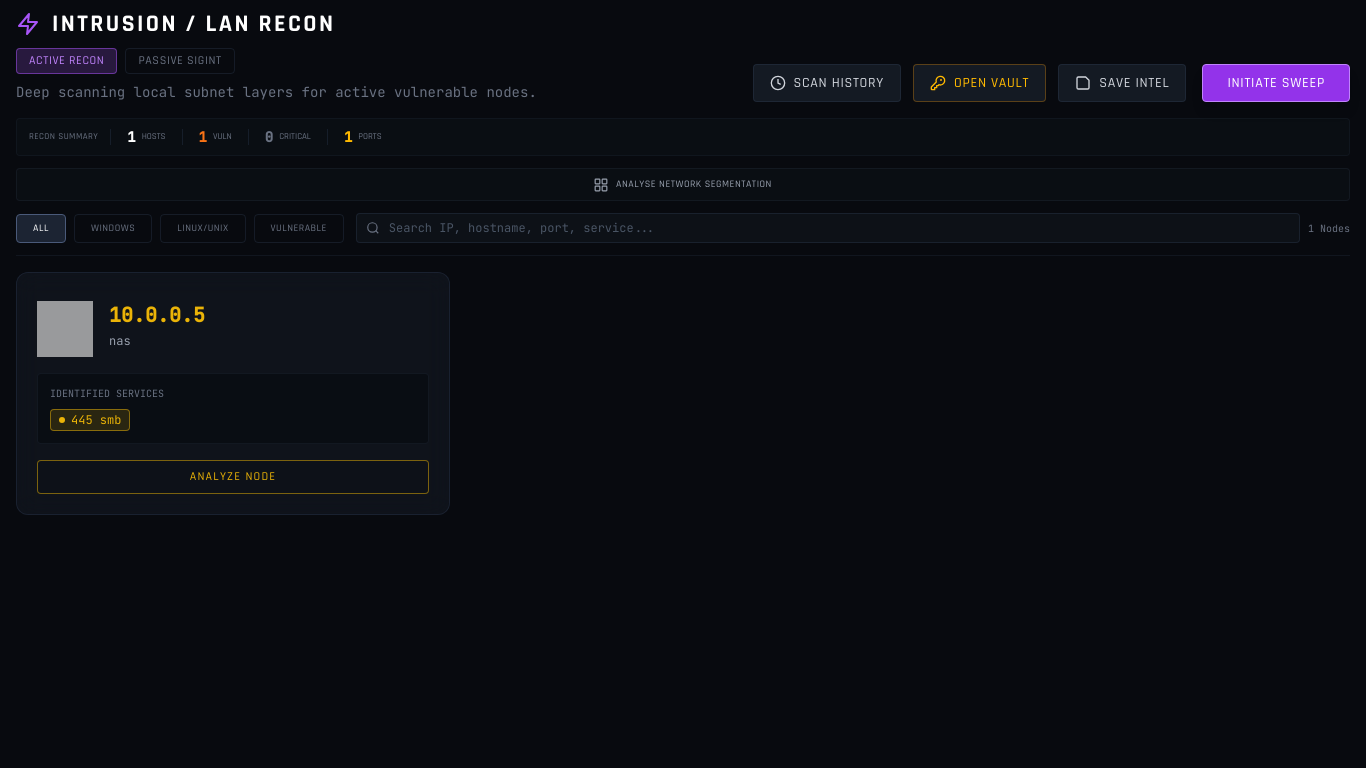
it: the table, once opened › the footnote is built from what the engine sent
Click the button "ANALYSE NETWORK SEGMENTATION" at (683, 184), box [16,168,1350,201]
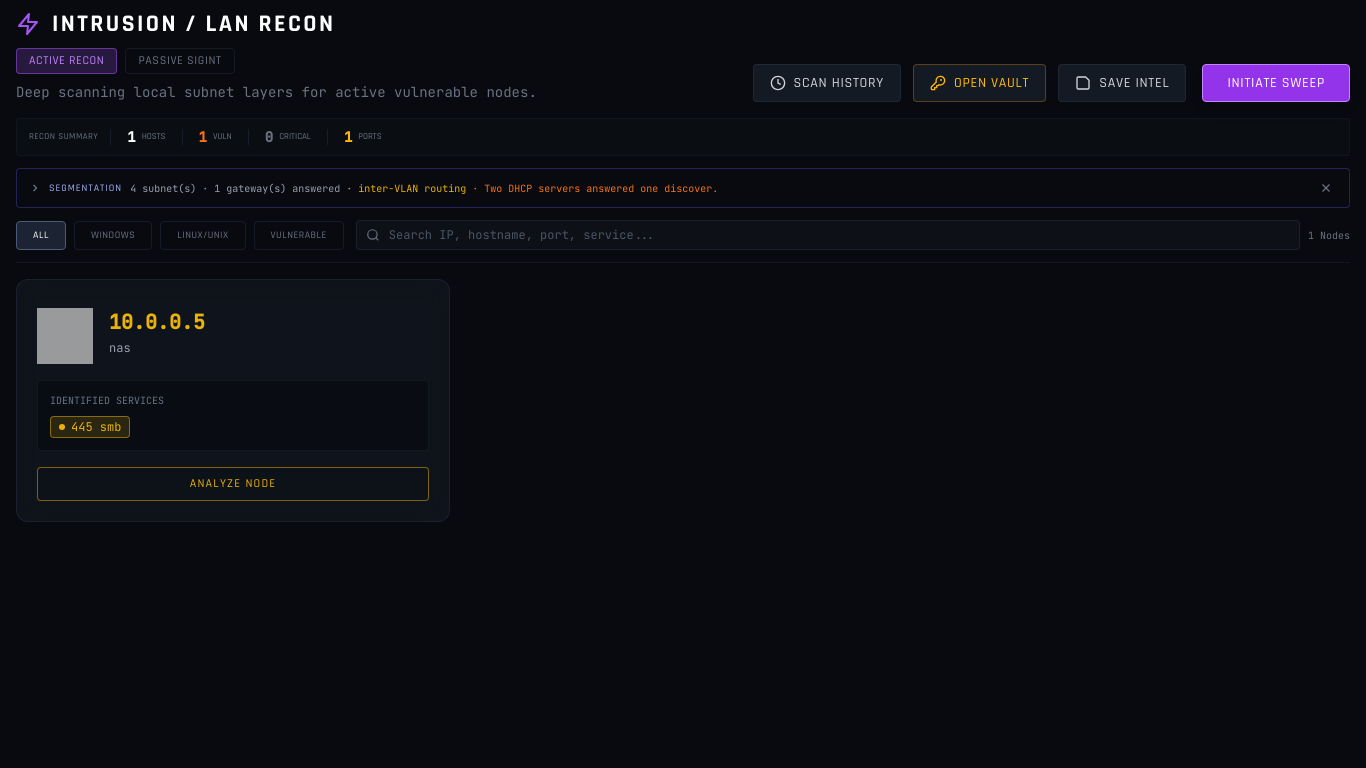
Click the button "SEGMENTATION" at (668, 188), box [29,180,1307,196]
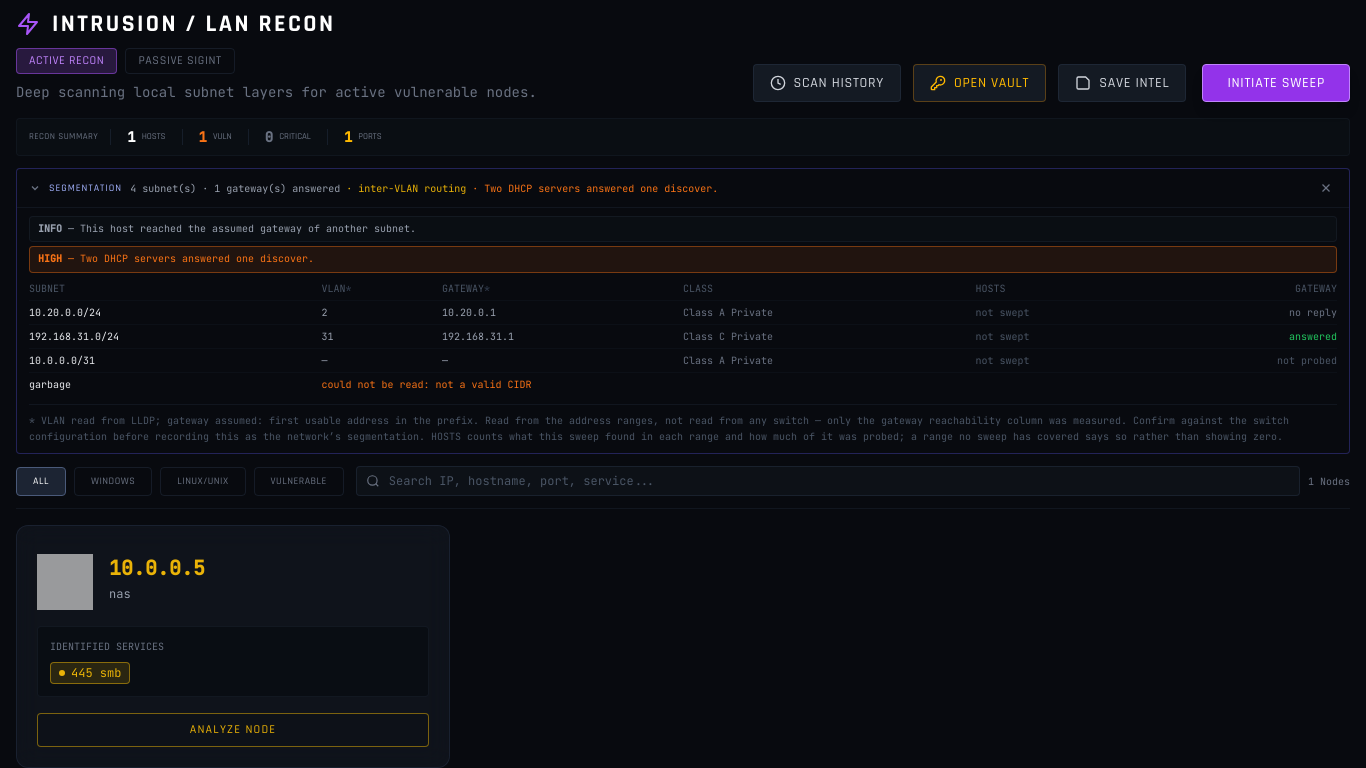
Expected: the text "not read from any switch" shows "read from LLDP", [29,414,1289,443]
